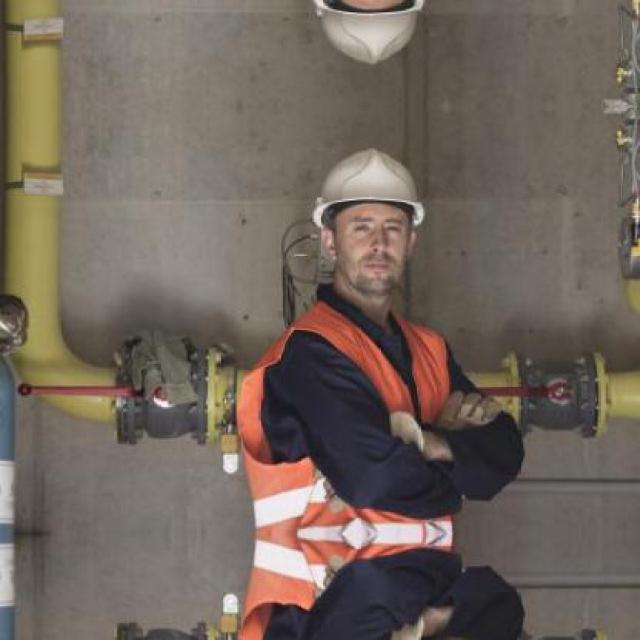helmet: (298, 131, 431, 305), (298, 0, 432, 82)
